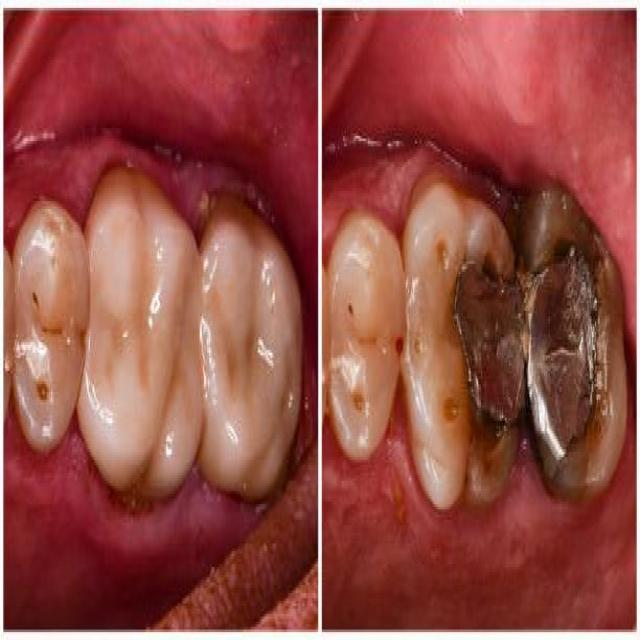caries: (533, 227, 613, 480), (470, 227, 528, 486), (341, 283, 381, 370), (28, 265, 66, 346), (427, 215, 464, 289), (438, 384, 468, 452), (31, 368, 54, 418), (407, 326, 430, 374), (386, 320, 405, 368), (349, 384, 369, 424)
